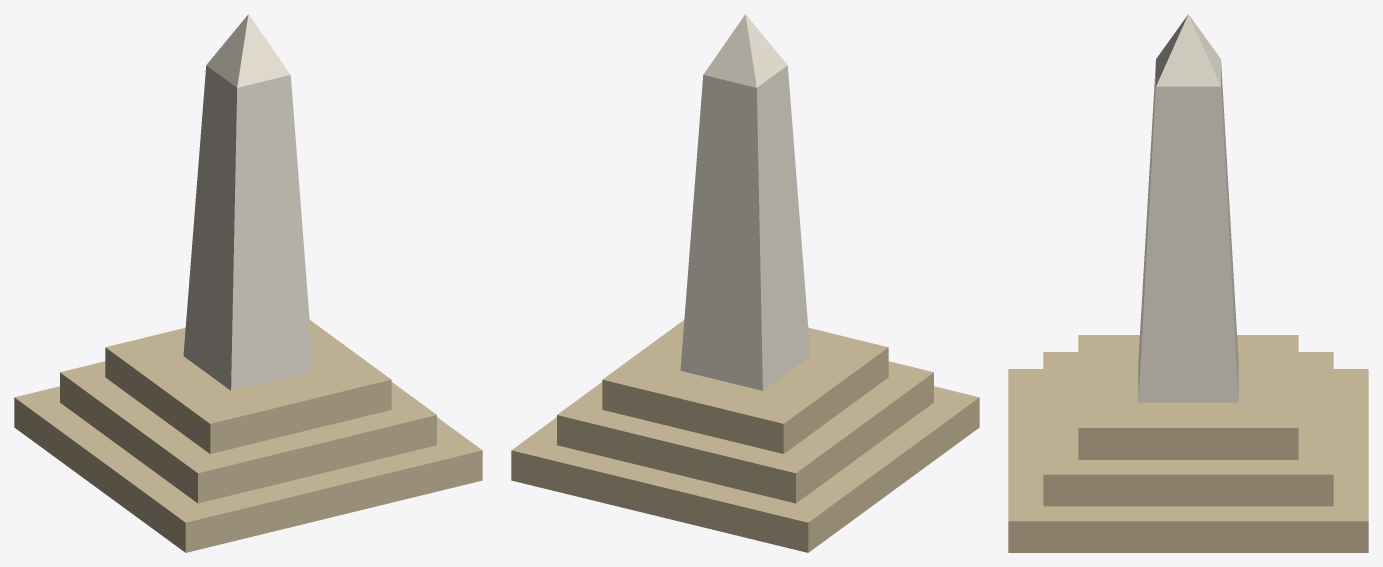
The model's file is building_monument.fbx.
3 views of the same model, side by side, from view 1: azimuth 30°, elevation 25°; view 2: azimuth 150°, elevation 25°; view 3: azimuth 270°, elevation 25° (orthographic). The views are drawn at different scales.
Parts seen in each view (by area): view 1: building_monument; view 2: building_monument; view 3: building_monument.
Part boxes in pixels (x1=…): building_monument: x1=14, y1=14, x2=482, y2=552; building_monument: x1=511, y1=14, x2=979, y2=552; building_monument: x1=1008, y1=14, x2=1368, y2=552.
Size of the model in its own units: 36 by 51 by 36.
